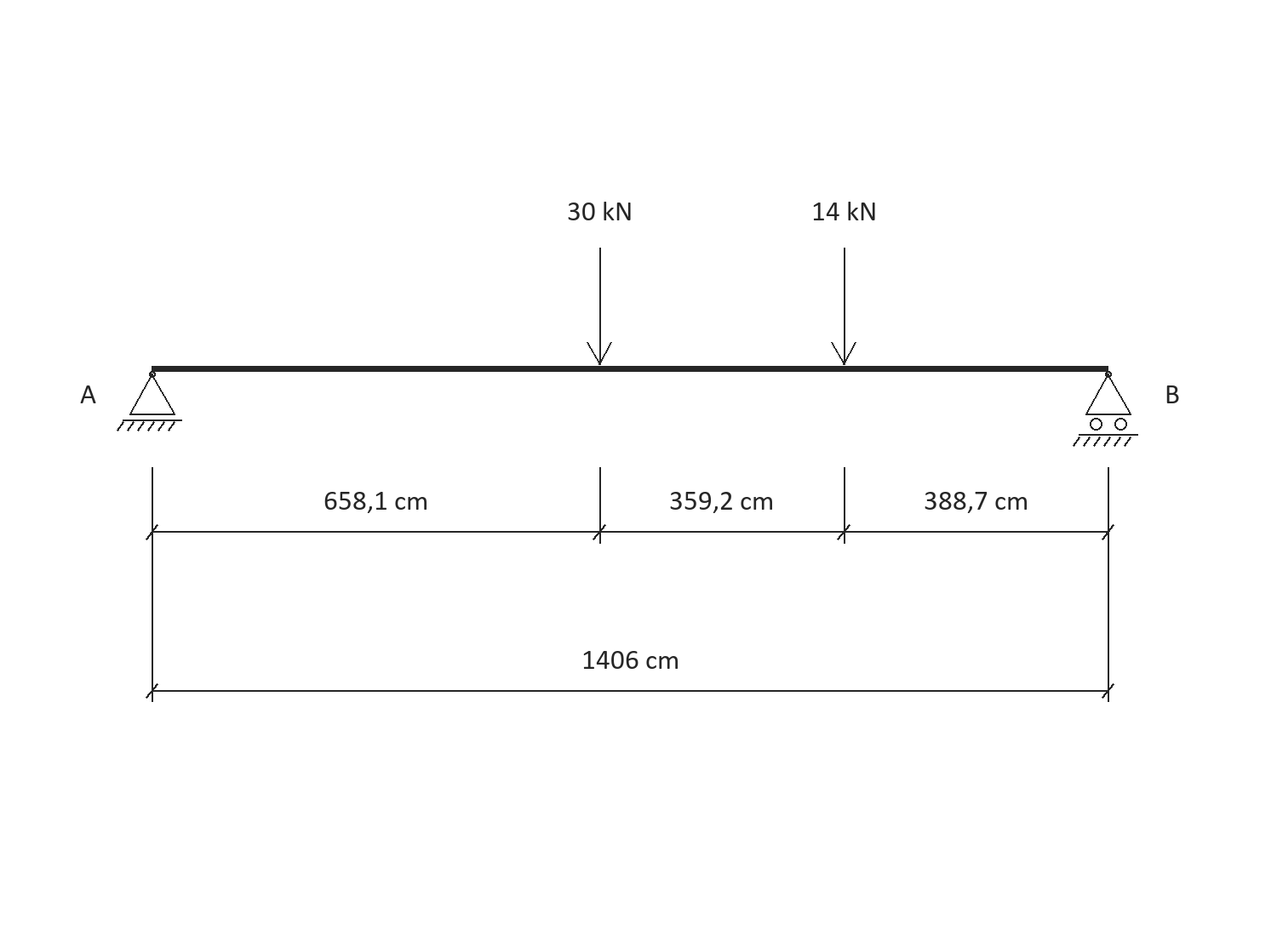pin_support: (117, 371, 182, 431)
point_load: (587, 248, 612, 365), (831, 248, 856, 365)
roller_support: (1073, 371, 1138, 447)
